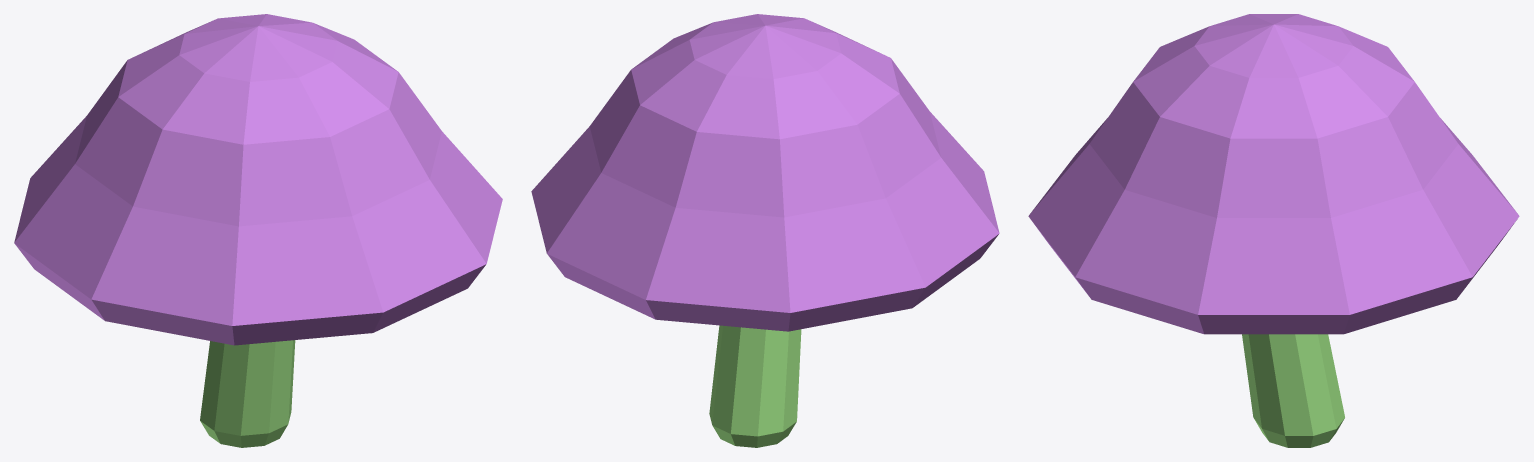
Rendered from OddItem2.fbx.
3 renders of one model, left to right at view 1: azimuth 30°, elevation 25°; view 2: azimuth 150°, elevation 25°; view 3: azimuth 270°, elevation 25°, orthographic. The views are drawn at different scales.
Visible parts, largest first — view 1: Mushroom; view 2: Mushroom; view 3: Mushroom.
Part boxes in pixels (x1,y1,x2,y2): Mushroom: [14, 14, 502, 447]; Mushroom: [531, 14, 999, 447]; Mushroom: [1028, 14, 1519, 447].
Bounding box in the file's own units: 311 × 300 × 326.
